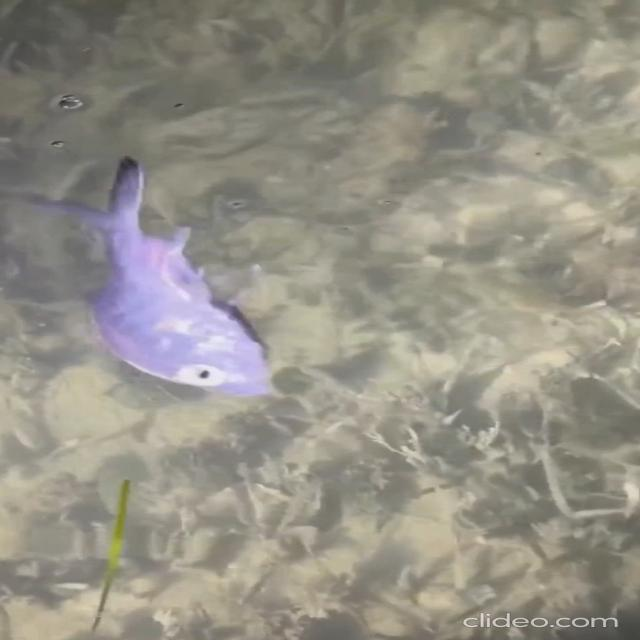fish: (34, 153, 301, 401)
